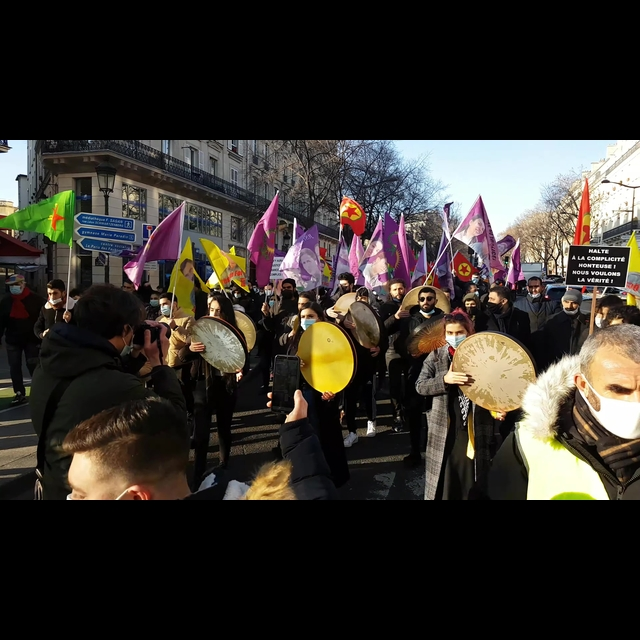PKK: (338, 197, 364, 226), (456, 256, 472, 280)
